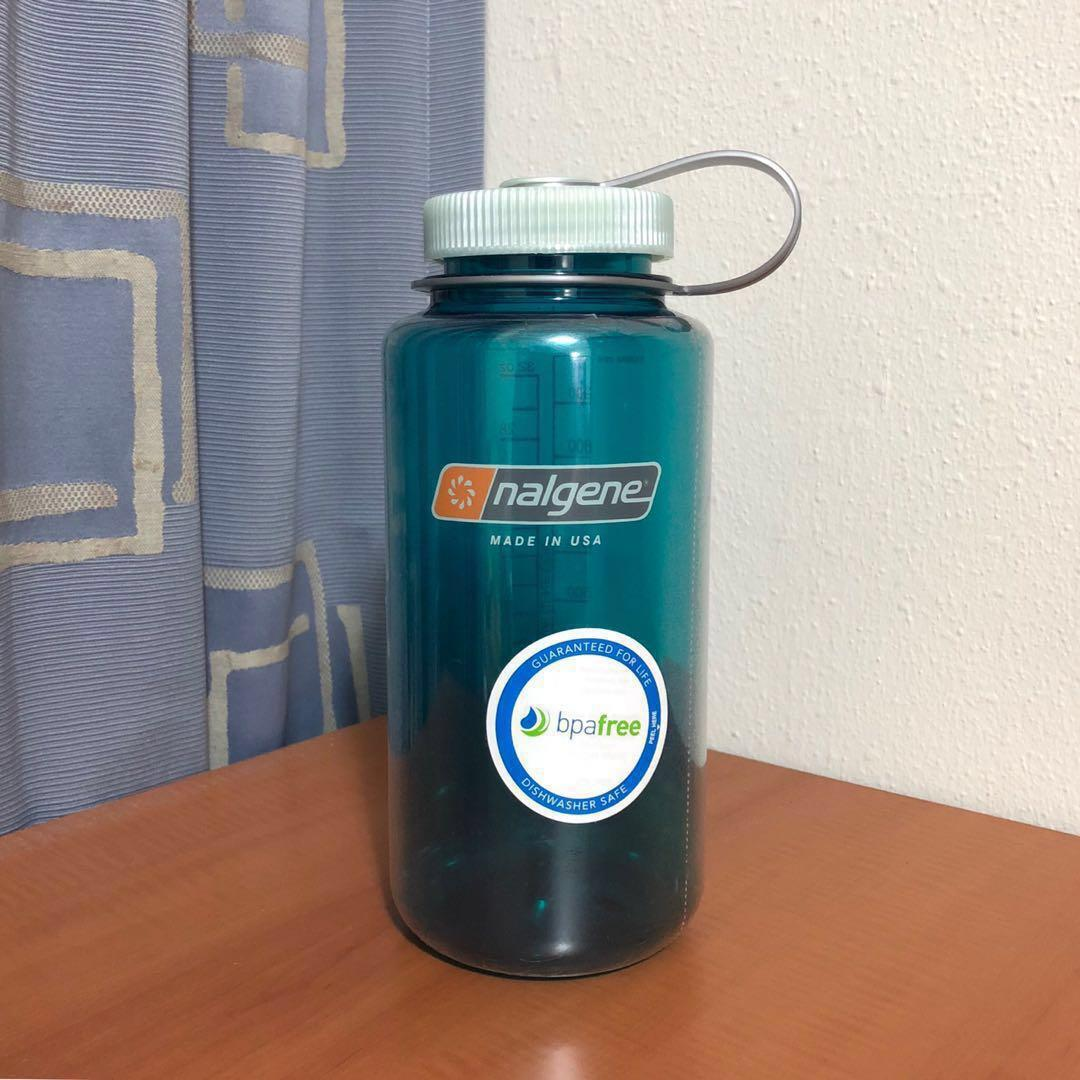waterbottle: (376, 145, 804, 985)
